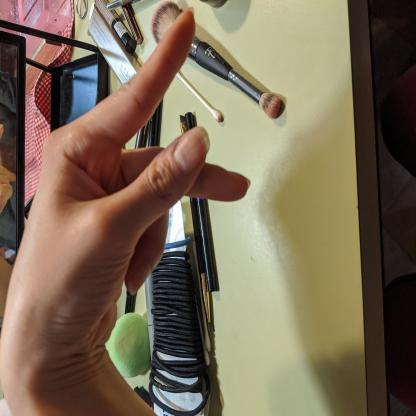P: (12, 6, 254, 354)
